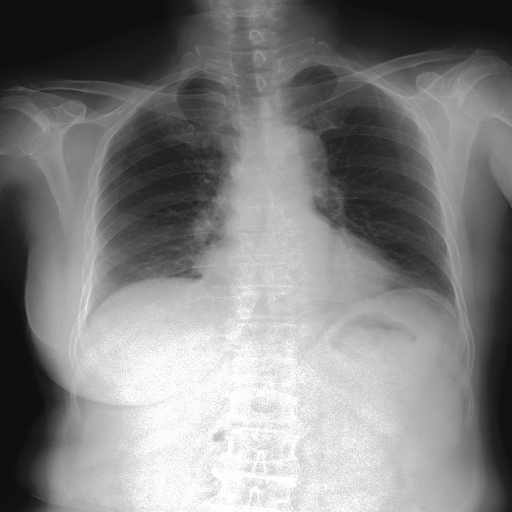Consolidation: (268, 129, 329, 179)
Nodule/Mass: (190, 255, 406, 306)
